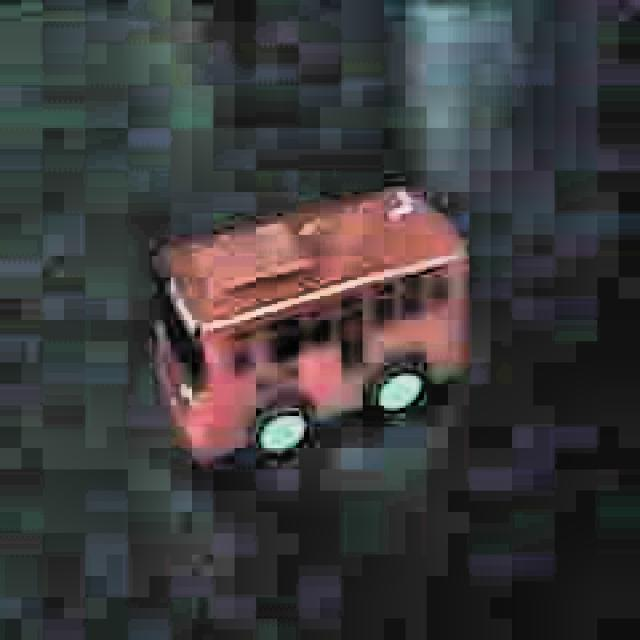bus: (146, 171, 483, 477)
